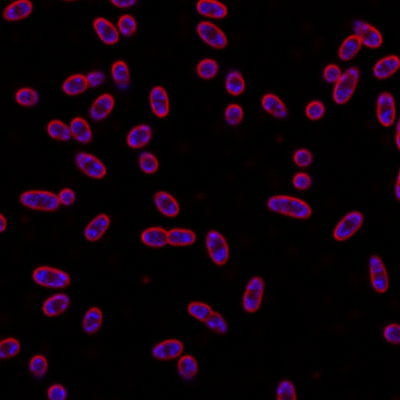MP265: (264, 194, 313, 221), (141, 227, 196, 247), (31, 264, 73, 290), (332, 209, 365, 241), (194, 20, 228, 49), (243, 273, 266, 314), (20, 189, 60, 212), (206, 230, 230, 267), (153, 188, 181, 218), (92, 17, 121, 45), (83, 212, 110, 242), (151, 338, 185, 361), (40, 292, 71, 317), (126, 122, 153, 150), (3, 0, 35, 23), (149, 84, 170, 118), (195, 0, 230, 19), (377, 91, 395, 127), (372, 55, 400, 78)
Oblique: (187, 299, 228, 334), (59, 69, 107, 96), (332, 69, 361, 105), (354, 18, 383, 49), (76, 150, 107, 178), (368, 253, 389, 294), (337, 31, 362, 63), (261, 93, 289, 120), (69, 116, 96, 142), (90, 94, 114, 122), (46, 118, 73, 141), (111, 62, 131, 93), (83, 306, 105, 334), (177, 355, 199, 380), (14, 85, 40, 106), (195, 57, 219, 79), (118, 13, 139, 38), (0, 337, 23, 359), (28, 355, 49, 379), (137, 154, 160, 175), (227, 71, 247, 94), (224, 103, 244, 125), (293, 147, 313, 169), (291, 171, 313, 190), (307, 99, 325, 121), (323, 64, 340, 83)
